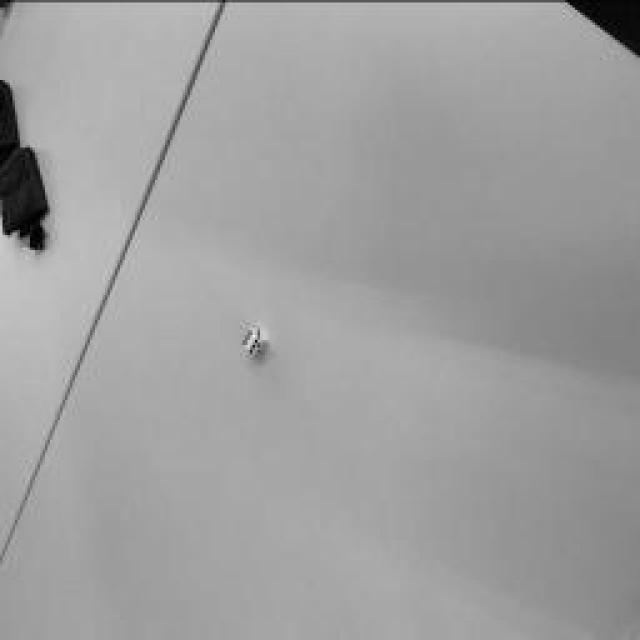dice_6: (244, 328, 258, 352)
